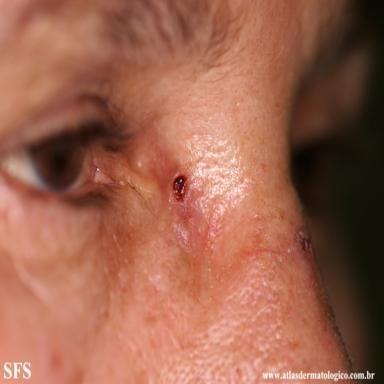basal-cell-carcinoma: (166, 169, 195, 209), (293, 225, 315, 261)
